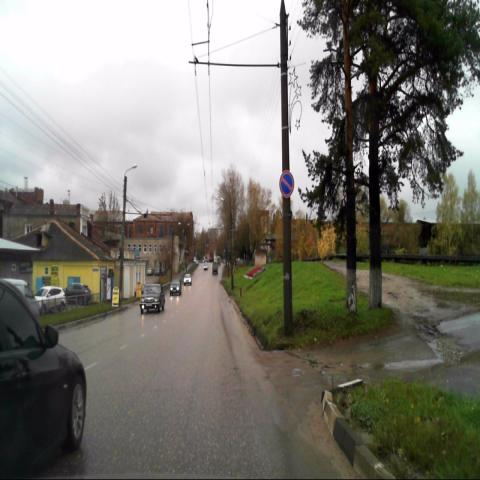3_28: (279, 169, 295, 198)
